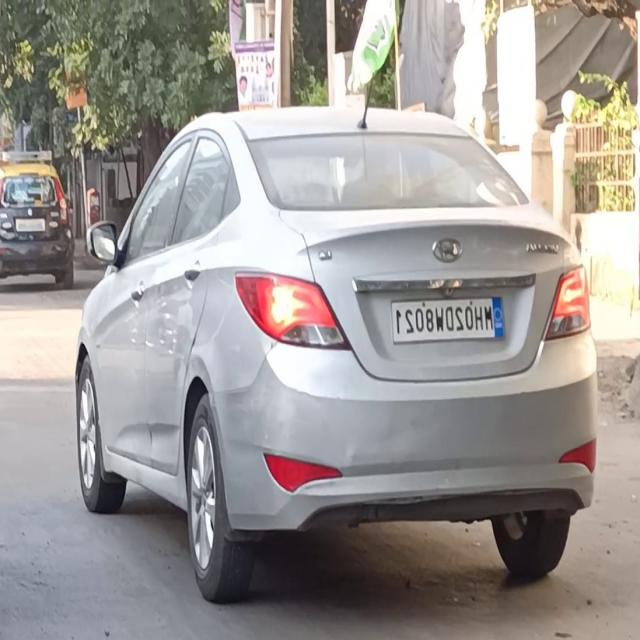license_plate: (388, 287, 509, 349)
